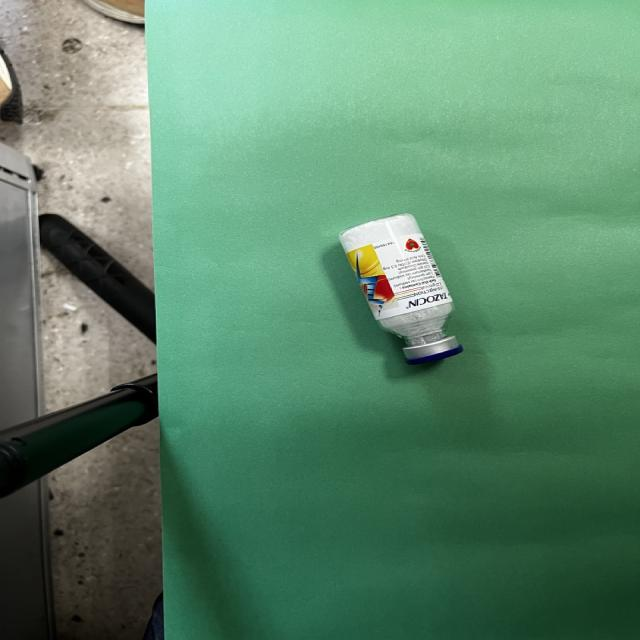Vials: (339, 214, 462, 364)
